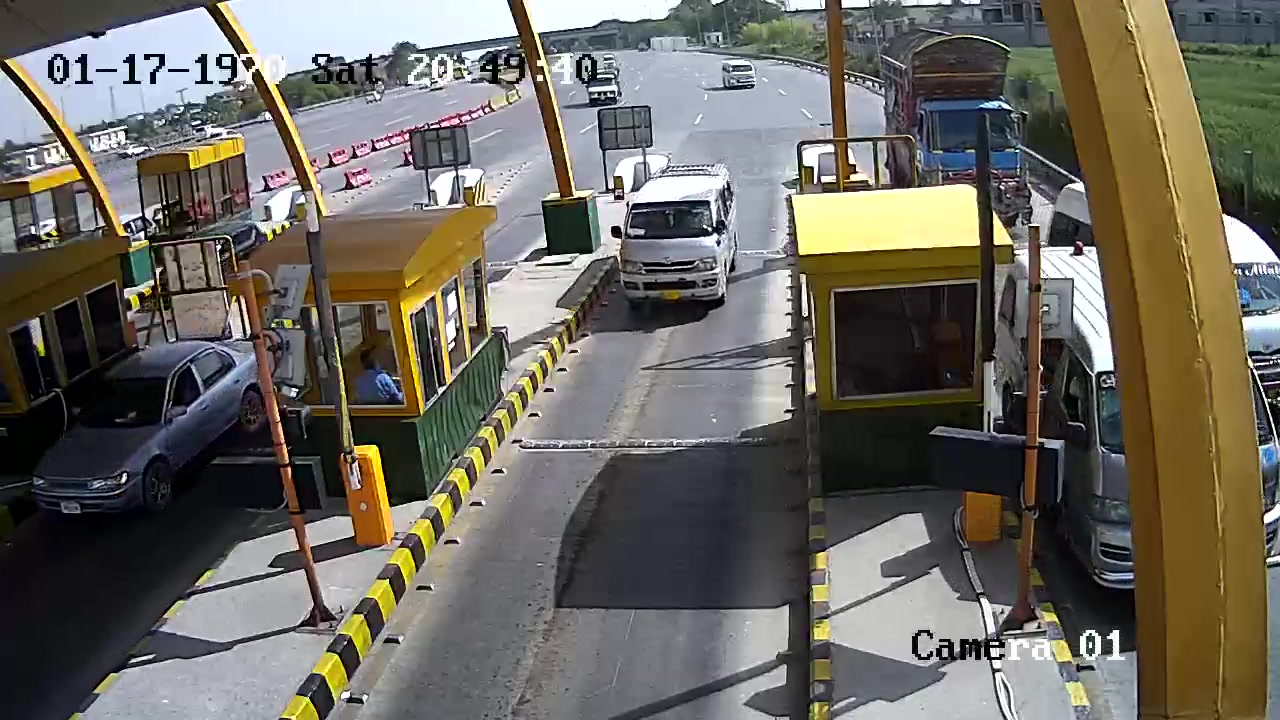F3: (615, 167, 749, 318)
